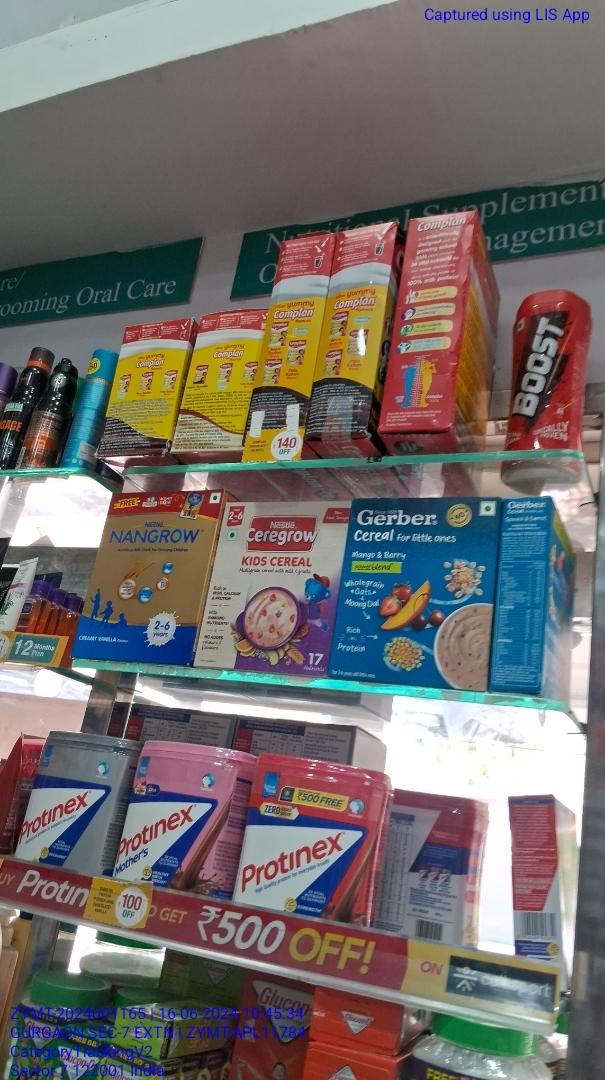PROTINEX_CHOCOLATE_400_G_JAR: (241, 755, 370, 927)
PROTINEX_ORIGINAL_400_G_JAR: (16, 739, 129, 861)
